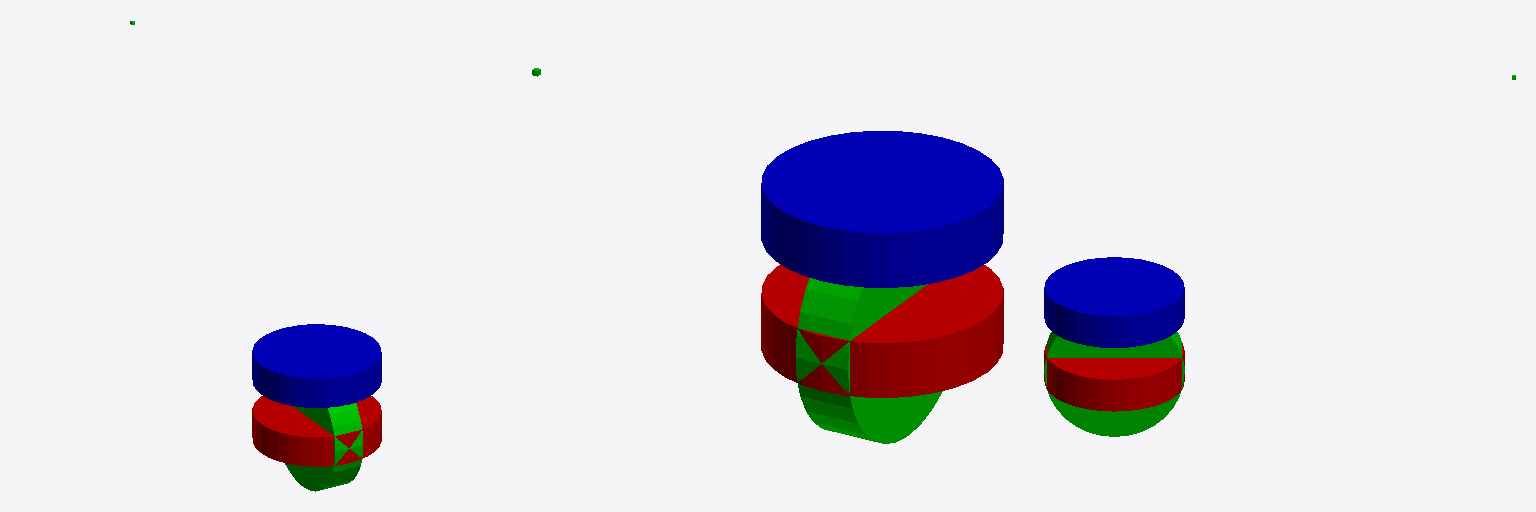
The robot description file, URDF, robot "mira":
<?xml version="1.0"?>
<robot name="mira">
    <material name="blue">
        <color rgba="0 0 0.8 1"/>
    </material>
    <material name="red">
        <color rgba="0.8 0 0 1"/>
    </material>
    <material name="green">
        <color rgba="0 0.8 0 1"/>
    </material>
    <material name="grey">
        <color rgba="0.75 0.75 0.75 1"/>
    </material>
    <material name="white">
        <color rgba="1.0 1.0 1.0 1"/>
    </material>
    <material name="black">
        <color rgba="0 0 0 1"/>
    </material>

    <link name="base_link">
        <visual>
            <origin rpy="0 0 0" xyz="0 0 0"/>
            <geometry>
                <mesh filename="package://my_mira_description/models/mira/meshes/mira_body_v3.dae"/>
            </geometry>
            <material name="grey"/>
        </visual>
    </link>
  
    <link name="roll_M1_link">
        <visual>
            <origin rpy="0 0 0" xyz="0 0 0"/>
            <geometry>
                <cylinder radius="0.01" length="0.005"/>
            </geometry>
            <material name="red"/>
        </visual>
    </link>
    
    <joint name="roll_joint" type="revolute">
        <parent link="base_link"/>
        <child link="roll_M1_link"/>
        <origin xyz="0.0023 0 -0.0005" rpy="0 0 0"/>
        <limit lower="-0.2" upper="0.2" effort="0.1" velocity="0.005"/>
        <axis xyz="1 0 0"/>
    </joint>

    <link name="pitch_M2_link">
        <visual>
            <origin rpy="0 0 0" xyz="0 0 0"/>
            <geometry>
                <cylinder radius="0.01" length="0.005"/>
            </geometry>
            <material name="green"/>
        </visual>
    </link>

    <joint name="pitch_joint" type="revolute">
        <parent link="roll_M1_link"/>
        <child link="pitch_M2_link"/>
        <origin xyz="0 0 0" rpy="0 -1.5708 0"/>
        <limit lower="0" upper="0.44" effort="0.1" velocity="0.005"/>
        <axis xyz="0 1 0"/>
    </joint>
    
    <link name="yaw_M3_link">
        <visual>
            <origin rpy="0 0 0" xyz="0 0 0"/>
            <geometry>
                <cylinder length="0.005" radius="0.01"/>
            </geometry>
            <material name="blue"/>
        </visual>
    </link>

    <joint name="yaw_joint" type="continuous">
        <parent link="pitch_M2_link"/>
        <child link="yaw_M3_link"/>
        <origin xyz="0.01 0 0" rpy="0 1.5708 0"/>
        <limit effort="0.1" velocity="0.01"/>
        <axis xyz="0 0 1"/>
    </joint>

    <link name="head_link">
		<visual>
            <origin rpy="0.0 0 0" xyz="0 0 0"/>
            <geometry>
                <mesh filename="package://my_mira_description/models/mira/meshes/mira_head_v5.dae"/>
            </geometry>
            <material name="white"/>
        </visual>
	</link>

    <joint name="base_head_joint" type="fixed">
    	<parent link="yaw_M3_link"/>
    	<child link="head_link"/>
    	<origin xyz="0 0 0.01" rpy="0 0 0"/>
	</joint>

    <link name="left_eye_link">
		<visual>
            <origin rpy="0.0 0 0" xyz="0 0 0"/>
            <geometry>
                <mesh filename="package://my_mira_description/models/mira/meshes/mira_eye_v4.dae"/>
            </geometry>
            <material name="black"/>
        </visual>
	</link>

    <link name="right_eye_link">
		<visual>
            <origin rpy="0.0 0 0" xyz="0 0 0"/>
            <geometry>
                <mesh filename="package://my_mira_description/models/mira/meshes/mira_eye_v4.dae"/>
            </geometry>
            <material name="black"/>
        </visual>
	</link>

    <joint name="head_lefteye_joint" type="fixed">
        <parent link="head_link"/>
        <child link="left_eye_link"/>
        <origin xyz="0.0095 0.057 0.0085" rpy="-1.5708 0 0"/>
    </joint>

    <joint name="head_righteye_joint" type="fixed">
        <parent link="head_link"/>
        <child link="right_eye_link"/>
        <origin xyz="-0.0095 0.057 0.0085" rpy="-1.5708 0 0"/>
    </joint>

    <link name="camera_link">
		<visual>
            <origin rpy="0.0 0 0" xyz="0 0 0"/>
            <geometry>
                <box size="0.0005 0.0005 0.0005"/>
            </geometry>
            <material name="green"/>
        </visual>
	</link>

    <joint name="head_camera_joint" type="fixed">
        <parent link="head_link"/>
        <child link="camera_link"/>
        <origin xyz="0 0.057 0.0255" rpy="0 0 0"/>
    </joint>

</robot>

--- What the picture shows (computed from the rendered views, not written in the file) ---
3 views of the same robot in one strip: view 1: azimuth 30°, elevation 25°; view 2: azimuth 150°, elevation 25°; view 3: azimuth 270°, elevation 25° (orthographic).
Model mira with 8 links and 7 joints (2 revolute, 1 continuous, 4 fixed), rooted at base_link, posed every joint at zero.
Visible links, largest first — view 1: yaw_M3_link, roll_M1_link, pitch_M2_link; view 2: yaw_M3_link, roll_M1_link, pitch_M2_link; view 3: yaw_M3_link, roll_M1_link, pitch_M2_link.
Link boxes in pixels (x1,y1,x2,y2): yaw_M3_link: (252,324,381,407); roll_M1_link: (252,396,381,466); pitch_M2_link: (285,403,362,491); yaw_M3_link: (761,131,1003,287); roll_M1_link: (761,264,1003,397); pitch_M2_link: (796,278,942,443); yaw_M3_link: (1044,257,1184,347); roll_M1_link: (1044,343,1184,411); pitch_M2_link: (1044,332,1184,436).
Bounding box of the posed robot: 0.02 × 0.0672 × 0.0558 m (x, y, z).
0 mesh visuals loaded from 3 distinct referenced files (none loaded); not drawn: 4 (reference not matched to a file when rendering).
